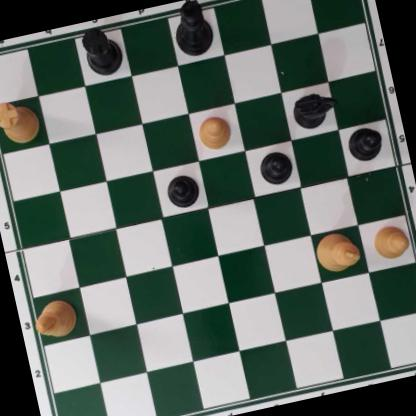black-king: (166, 0, 218, 62)
black-knight: (288, 88, 342, 133)
black-pawn: (345, 123, 385, 164), (256, 146, 295, 187), (163, 172, 203, 211)
black-rook: (79, 22, 127, 80)
white-bishop: (30, 295, 82, 346)
white-king: (312, 227, 363, 276)
white-pawn: (368, 220, 412, 263), (193, 111, 234, 153)
white-rook: (0, 97, 43, 150)
